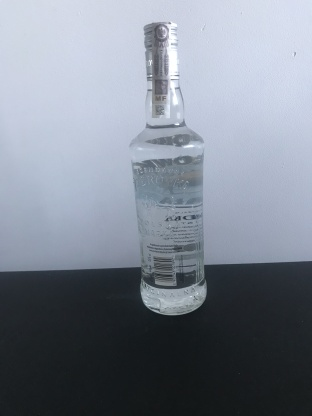nakretka: (139, 17, 182, 81)
